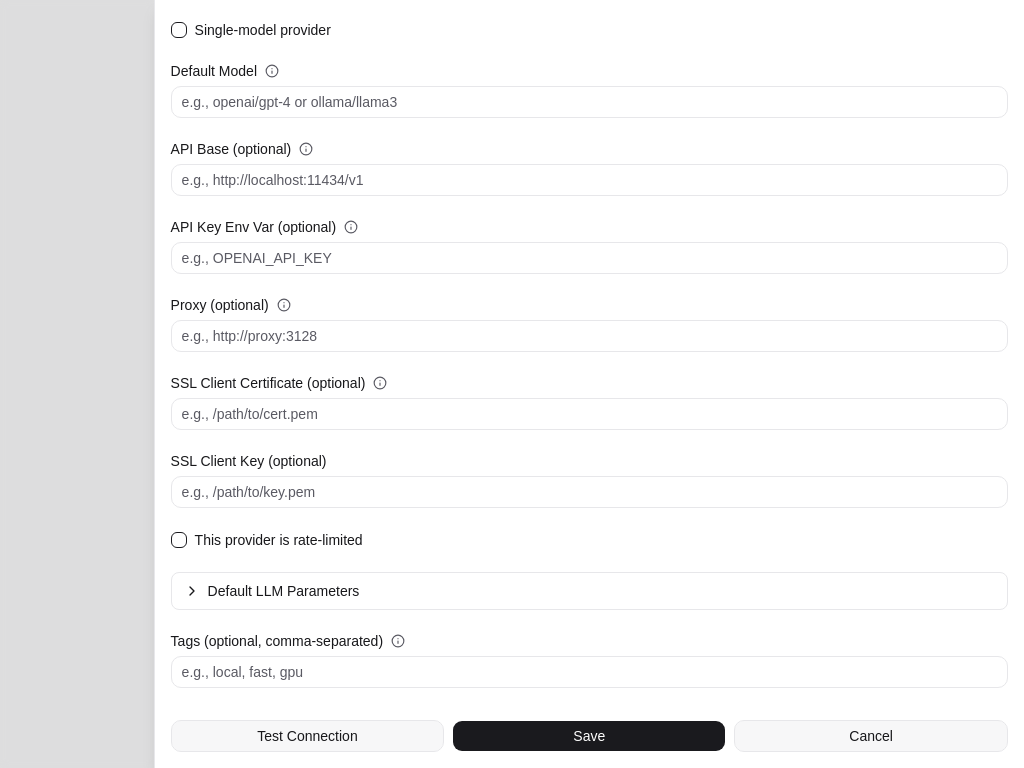
ProviderForm › test connection › shows error message on failed test
The image size is (1024, 768).
(page scrolled)
Click the button "Test Connection".
click(308, 736)  # box [171,720,444,752]
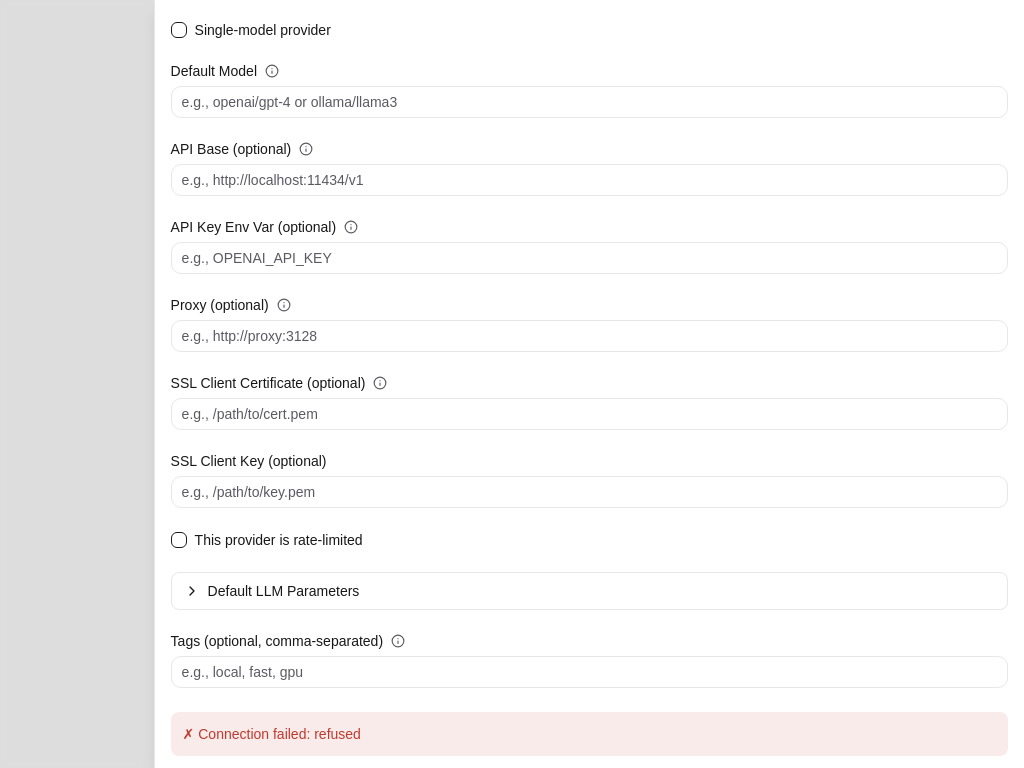
Now the text "✗ Connection failed: refused" is shown, box [183,726,361,742]
